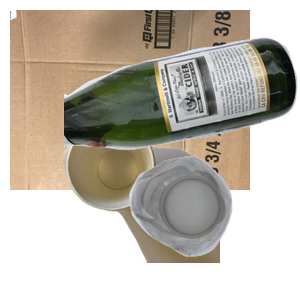cardboard: (10, 10, 250, 190)
glass: (64, 35, 300, 181)
plastic: (127, 154, 300, 300)
trash: (60, 120, 300, 300)
